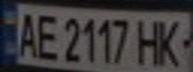1: (93, 15, 115, 64), (78, 14, 96, 63)
2: (57, 12, 81, 63)
7: (109, 15, 136, 65)
A: (12, 8, 42, 59)
E: (30, 9, 60, 61)
H: (133, 16, 166, 66)
K: (154, 16, 190, 68)
